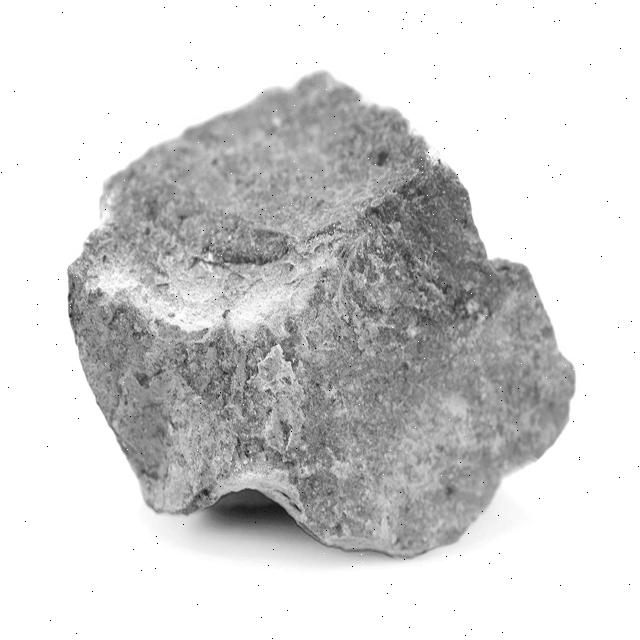Sedimentary: (62, 59, 584, 560)
